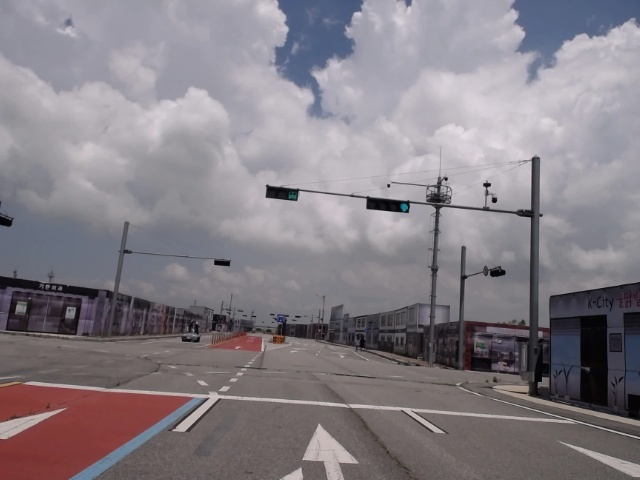straight_green_4: (366, 196, 410, 212)
